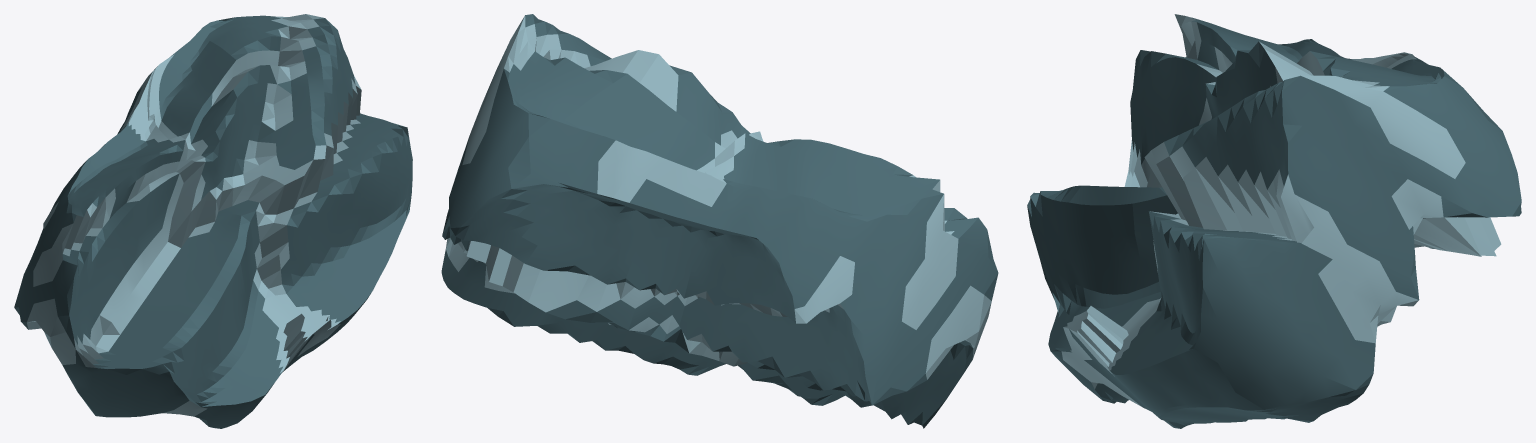
File: big-oxide-asteroid.glb
3 views of the same model, side by side, from view 1: azimuth 30°, elevation 25°; view 2: azimuth 150°, elevation 25°; view 3: azimuth 270°, elevation 25° (orthographic). The views are drawn at different scales.
Visible parts, largest first — view 1: body; view 2: body; view 3: body.
Boxes of the visible parts, box(x1,y1,x2,y2) form: body: box(14, 14, 412, 428); body: box(441, 14, 998, 428); body: box(1027, 14, 1521, 428).
Size of the model in its own units: 5 by 4.09 by 4.17.
